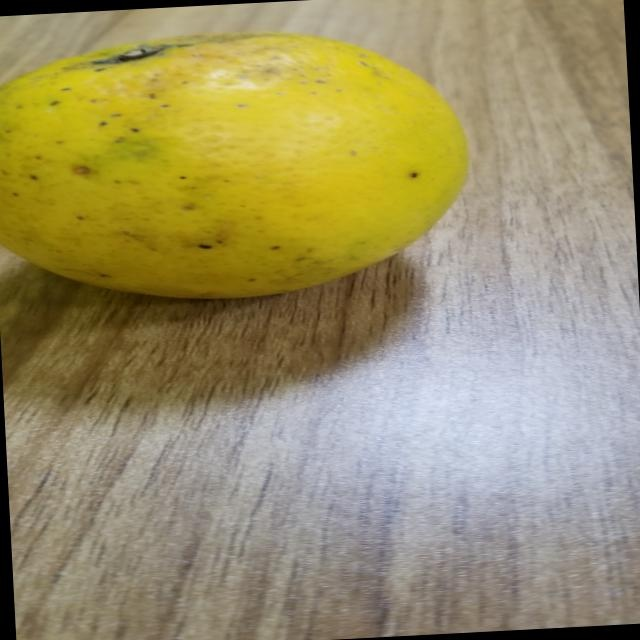agrume: (0, 16, 489, 321)
